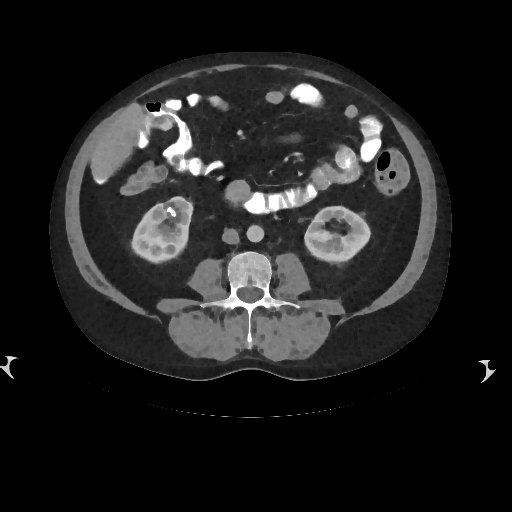Lesion: (164, 203, 181, 225)
